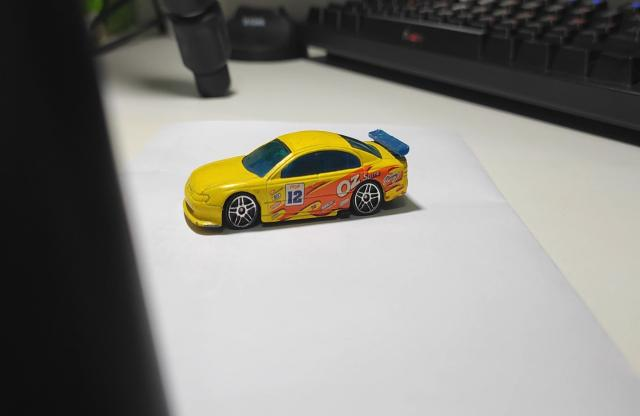02_OZSOME: (182, 131, 413, 237)
